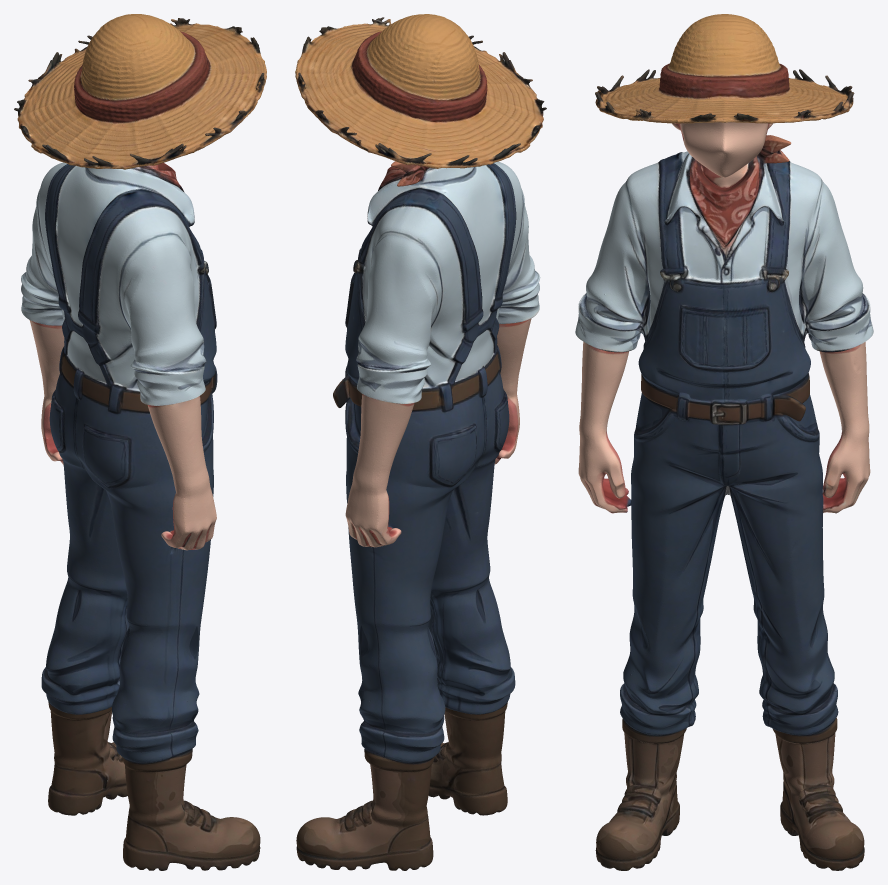
The model's file is farmer+character+3d+model.glb.
3 renders of one model, left to right at view 1: azimuth 30°, elevation 25°; view 2: azimuth 150°, elevation 25°; view 3: azimuth 270°, elevation 25°, orthographic.
Parts seen in each view (by area): view 1: tripo_node_ff9eee33-08cc-4783-aca8-d83e0e125c9a; view 2: tripo_node_ff9eee33-08cc-4783-aca8-d83e0e125c9a; view 3: tripo_node_ff9eee33-08cc-4783-aca8-d83e0e125c9a.
Boxes of the visible parts, x1,y1,x2,y2 form: tripo_node_ff9eee33-08cc-4783-aca8-d83e0e125c9a: [14, 14, 266, 870]; tripo_node_ff9eee33-08cc-4783-aca8-d83e0e125c9a: [295, 14, 546, 870]; tripo_node_ff9eee33-08cc-4783-aca8-d83e0e125c9a: [575, 14, 873, 870].
Bounding box in the file's own units: 0.2771 × 0.9999 × 0.3298.
Materials: 1 (1 with a texture image).
